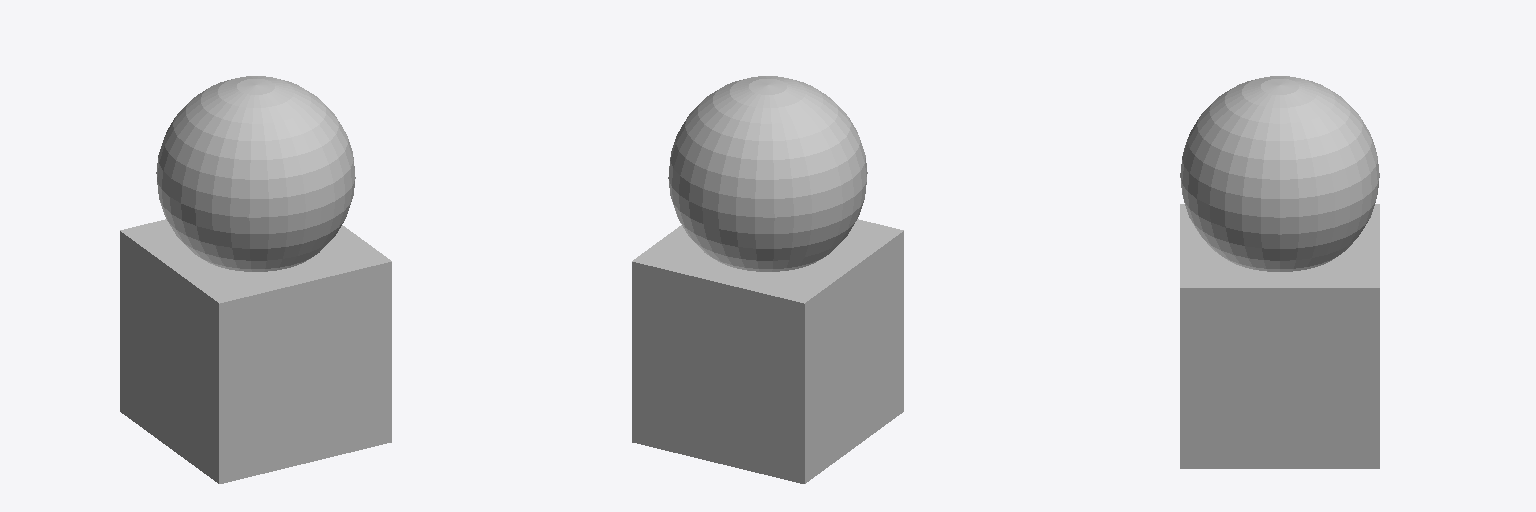
Rendered from Ball.obj.
3 views of the same model, side by side, from view 1: azimuth 30°, elevation 25°; view 2: azimuth 150°, elevation 25°; view 3: azimuth 270°, elevation 25° (orthographic).
Parts seen in each view (by area): view 1: 球; view 2: 球; view 3: 球.
Part boxes in pixels (x1,y1,x2,y2): 球: (120,76,391,483); 球: (632,76,903,483); 球: (1180,76,1379,468).
Size of the model in its own units: 2 by 3.78 by 2.